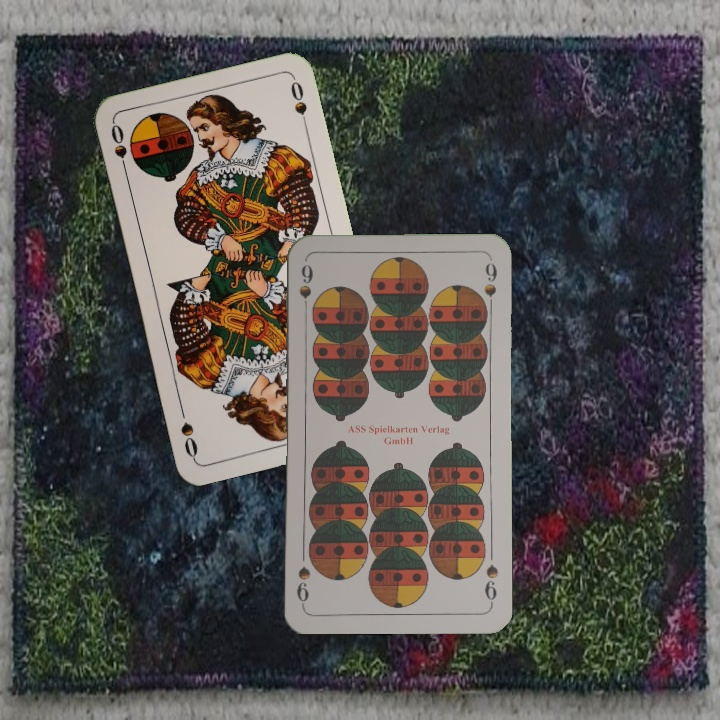S9: (295, 260, 315, 318), (481, 560, 501, 607)
SO: (107, 120, 131, 178)
